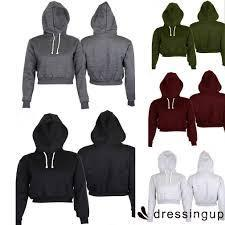sweater: (9, 109, 90, 224), (19, 2, 98, 109), (80, 0, 143, 111), (80, 108, 138, 217), (143, 72, 200, 148), (146, 2, 199, 71), (145, 153, 194, 221), (189, 0, 225, 69), (188, 68, 225, 130)
